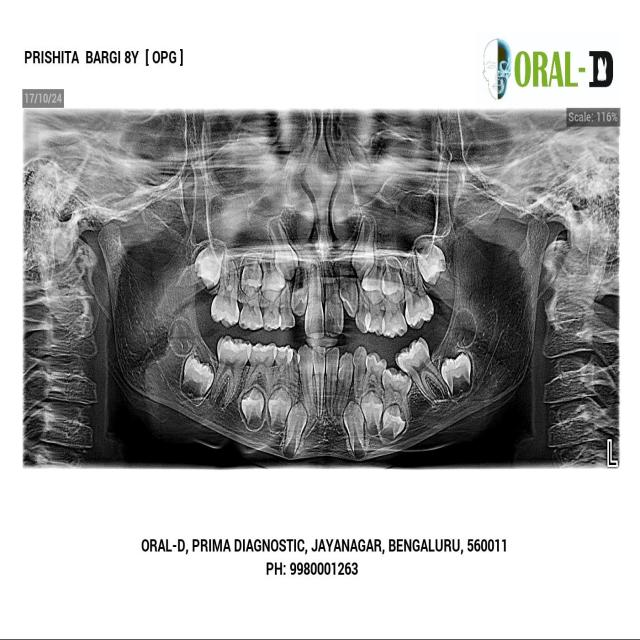Premolars: (359, 349, 389, 411)
